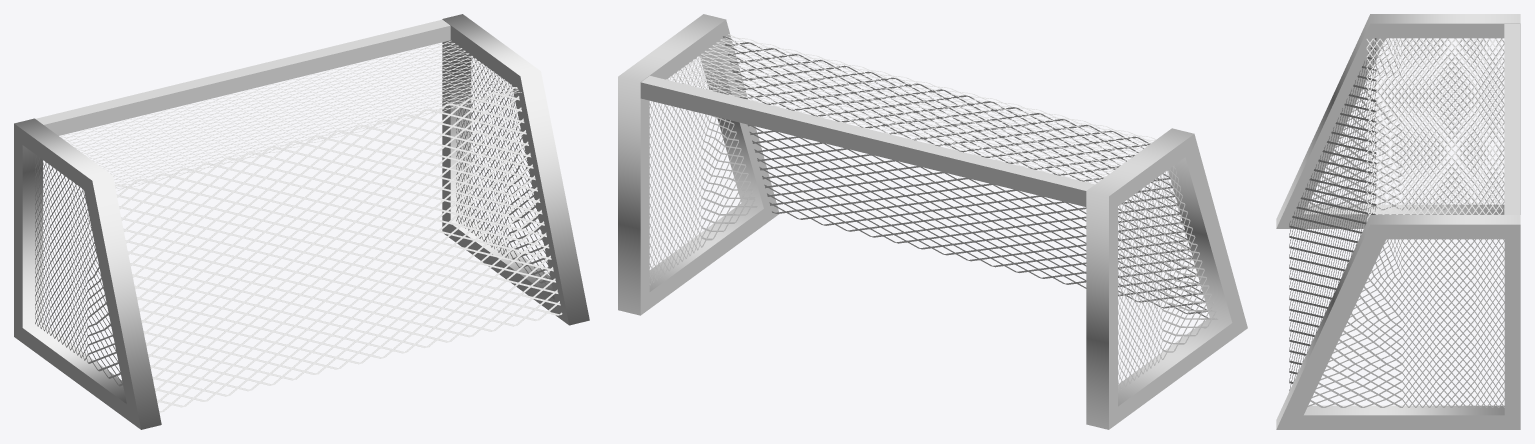
Rendered from Porteria.FBX.
3 renders of one model, left to right at view 1: azimuth 30°, elevation 25°; view 2: azimuth 150°, elevation 25°; view 3: azimuth 270°, elevation 25°, orthographic. The views are drawn at different scales.
Visible parts, largest first — view 1: Plane001, Tube001, Tube002, Plane002, Box002, Plane004, Plane003; view 2: Plane001, Tube001, Tube002, Plane002, Box002, Plane004, Plane003; view 3: Tube002, Plane003, Plane002, Tube001, Plane004, Plane001, Box002.
Boxes of the visible parts, <box> form: Plane001: <box>115,87,562,412</box>; Tube001: <box>14,118,161,429</box>; Tube002: <box>442,14,589,325</box>; Plane002: <box>60,40,521,191</box>; Box002: <box>36,19,450,135</box>; Plane004: <box>35,155,122,386</box>; Plane003: <box>456,47,552,290</box>; Plane001: <box>723,36,1208,318</box>; Tube001: <box>1086,128,1247,429</box>; Tube002: <box>618,14,778,315</box>; Plane002: <box>666,34,1156,183</box>; Box002: <box>640,76,1094,206</box>; Plane004: <box>1118,165,1218,392</box>; Plane003: <box>649,47,757,285</box>; Tube002: <box>1276,215,1520,429</box>; Plane003: <box>1308,239,1504,407</box>; Plane002: <box>1366,38,1502,221</box>; Tube001: <box>1276,14,1520,228</box>; Plane004: <box>1307,38,1504,210</box>; Plane001: <box>1289,38,1376,390</box>; Box002: <box>1504,24,1520,214</box>.
Bounding box in the file's own units: 87.1 × 39.6 × 42.74.
Materials: 2 (1 with a texture image).
